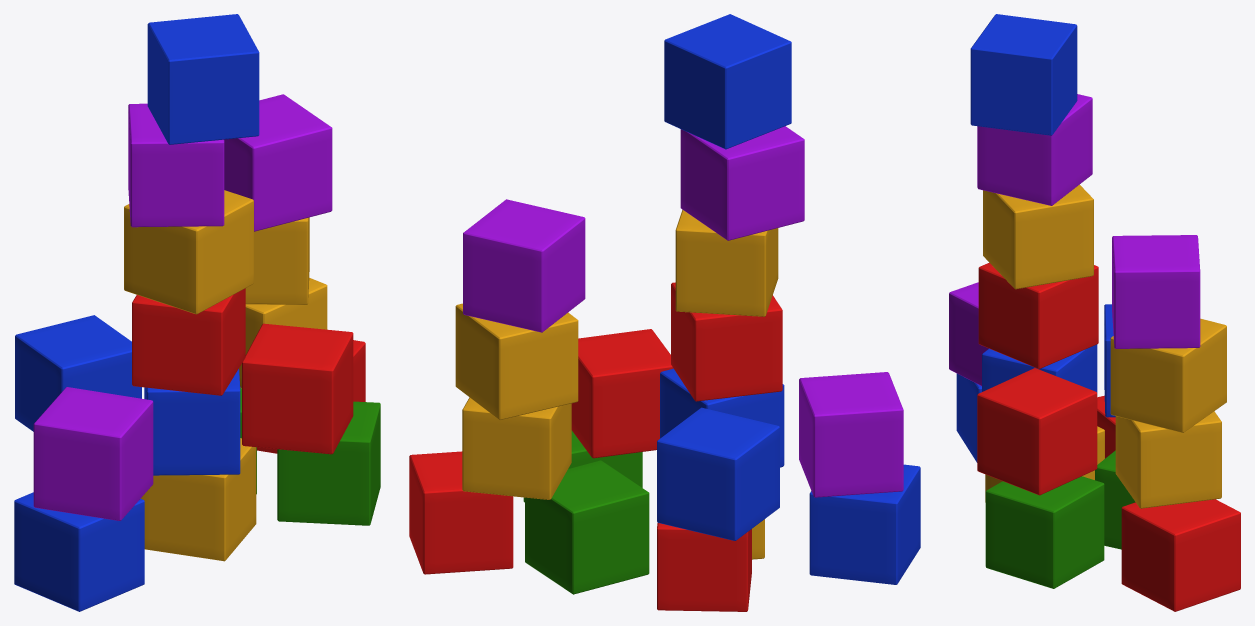
The model's file is colored_cubes.fbx.
3 views of the same model, side by side, from view 1: azimuth 30°, elevation 25°; view 2: azimuth 150°, elevation 25°; view 3: azimuth 270°, elevation 25° (orthographic). The views are drawn at different scales.
Visible parts, largest first — view 1: cube_7, cube_17, cube_10, cube_1, cube_14, cube_15, cube_12, cube_16, cube_2, cube_5, cube_9, cube_8 (+3 smaller); view 2: cube_17, cube_15, cube_9, cube_4, cube_7, cube_16, cube_13, cube_10, cube_6, cube_1, cube_12, cube_11 (+4 smaller); view 3: cube_10, cube_6, cube_17, cube_5, cube_15, cube_12, cube_13, cube_14, cube_16, cube_11, cube_7, cube_8 (+5 smaller).
Part boxes in pixels (x1=…): cube_7: x1=33, y1=387, x2=153, y2=520; cube_17: x1=147, y1=14, x2=259, y2=144; cube_10: x1=242, y1=323, x2=353, y2=454; cube_1: x1=14, y1=492, x2=144, y2=611; cube_14: x1=124, y1=190, x2=253, y2=314; cube_15: x1=224, y1=94, x2=332, y2=231; cube_12: x1=132, y1=288, x2=245, y2=395; cube_16: x1=128, y1=103, x2=224, y2=227; cube_2: x1=141, y1=438, x2=256, y2=561; cube_5: x1=277, y1=401, x2=380, y2=525; cube_9: x1=15, y1=315, x2=141, y2=431; cube_8: x1=144, y1=369, x2=240, y2=475; cube_17: x1=664, y1=14, x2=791, y2=149; cube_15: x1=463, y1=199, x2=585, y2=332; cube_9: x1=657, y1=407, x2=779, y2=540; cube_4: x1=525, y1=460, x2=649, y2=594; cube_7: x1=799, y1=372, x2=903, y2=497; cube_16: x1=680, y1=126, x2=804, y2=240; cube_13: x1=455, y1=303, x2=578, y2=419; cube_10: x1=571, y1=329, x2=673, y2=458; cube_6: x1=409, y1=451, x2=513, y2=574; cube_1: x1=809, y1=464, x2=920, y2=584; cube_12: x1=671, y1=282, x2=782, y2=401; cube_11: x1=462, y1=397, x2=571, y2=499; cube_10: x1=977, y1=368, x2=1097, y2=495; cube_6: x1=1121, y1=499, x2=1240, y2=611; cube_17: x1=970, y1=14, x2=1077, y2=135; cube_5: x1=985, y1=476, x2=1104, y2=588; cube_15: x1=1112, y1=235, x2=1200, y2=348; cube_12: x1=978, y1=262, x2=1098, y2=369; cube_13: x1=1110, y1=318, x2=1226, y2=432; cube_14: x1=983, y1=184, x2=1093, y2=289; cube_16: x1=977, y1=94, x2=1092, y2=205; cube_11: x1=1115, y1=411, x2=1221, y2=508; cube_7: x1=949, y1=282, x2=988, y2=385; cube_8: x1=982, y1=344, x2=1097, y2=392.
Size of the model in its own units: 36.75 by 42 by 23.78.
